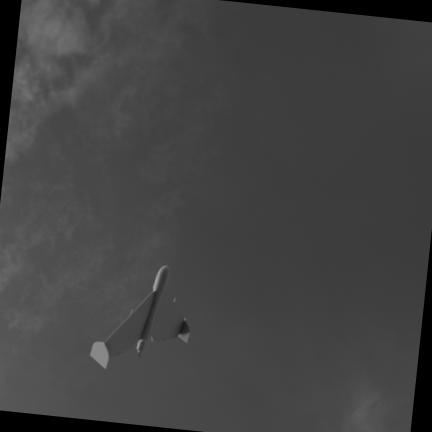Shahed: (90, 265, 190, 367)
